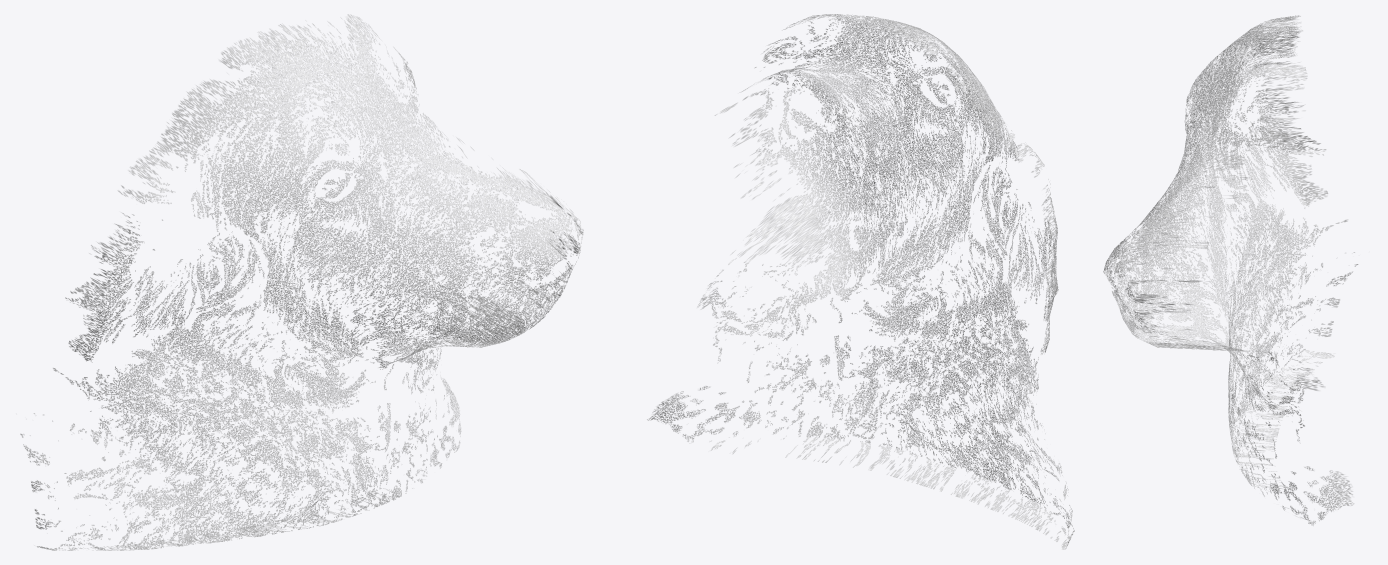
Rendered from engraving_test_3_diffuse_1.glb.
3 views of the same model, side by side, from view 1: azimuth 30°, elevation 25°; view 2: azimuth 150°, elevation 25°; view 3: azimuth 270°, elevation 25° (orthographic). The views are drawn at different scales.
Visible parts, largest first — view 1: mesh; view 2: mesh; view 3: mesh.
Part boxes in pixels (x1,y1,x2,y2): mesh: (20,14,583,550); mesh: (647,14,1074,549); mesh: (1103,15,1358,524).
Size of the model in its own units: 0.0502 by 0.0505 by 0.0292.
Materials: 1 (1 with a texture image).
